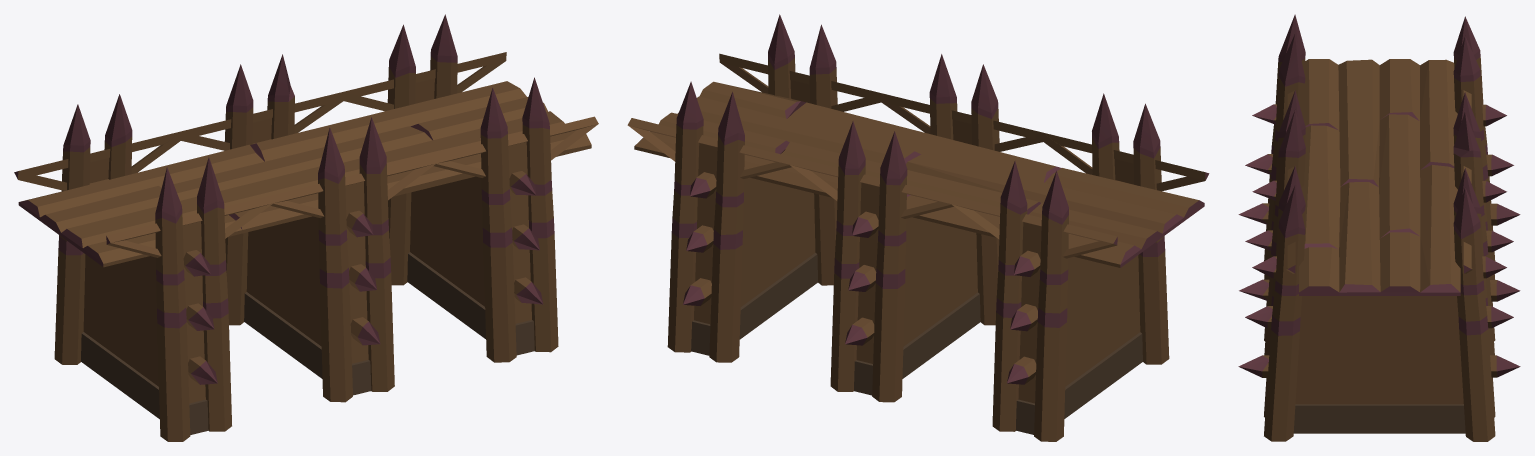
The model's file is SM_Bridge_Tribal_Tier3.fbx.
3 views of the same model, side by side, from view 1: azimuth 30°, elevation 25°; view 2: azimuth 150°, elevation 25°; view 3: azimuth 270°, elevation 25° (orthographic). The views are drawn at different scales.
Parts seen in each view (by area): view 1: SM_Bridge_Tribal_Tier3; view 2: SM_Bridge_Tribal_Tier3; view 3: SM_Bridge_Tribal_Tier3.
Part boxes in pixels (x1,y1,x2,y2): SM_Bridge_Tribal_Tier3: (14, 14, 598, 441); SM_Bridge_Tribal_Tier3: (627, 14, 1209, 441); SM_Bridge_Tribal_Tier3: (1238, 14, 1520, 441).
Bounding box in the file's own units: 10.02 × 5.16 × 5.25.
